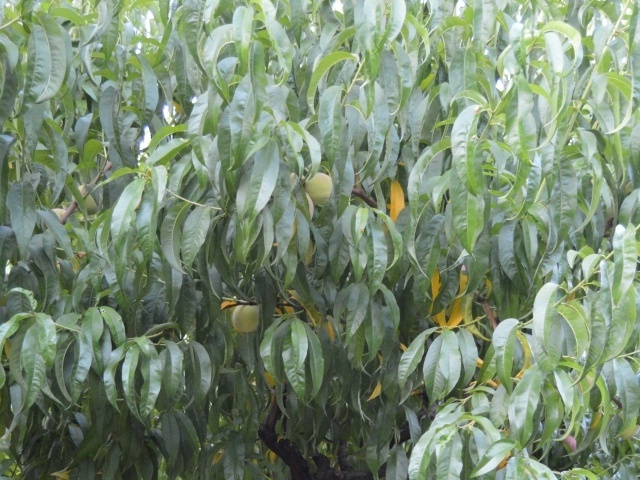peach: (302, 165, 338, 207), (229, 298, 262, 337)
